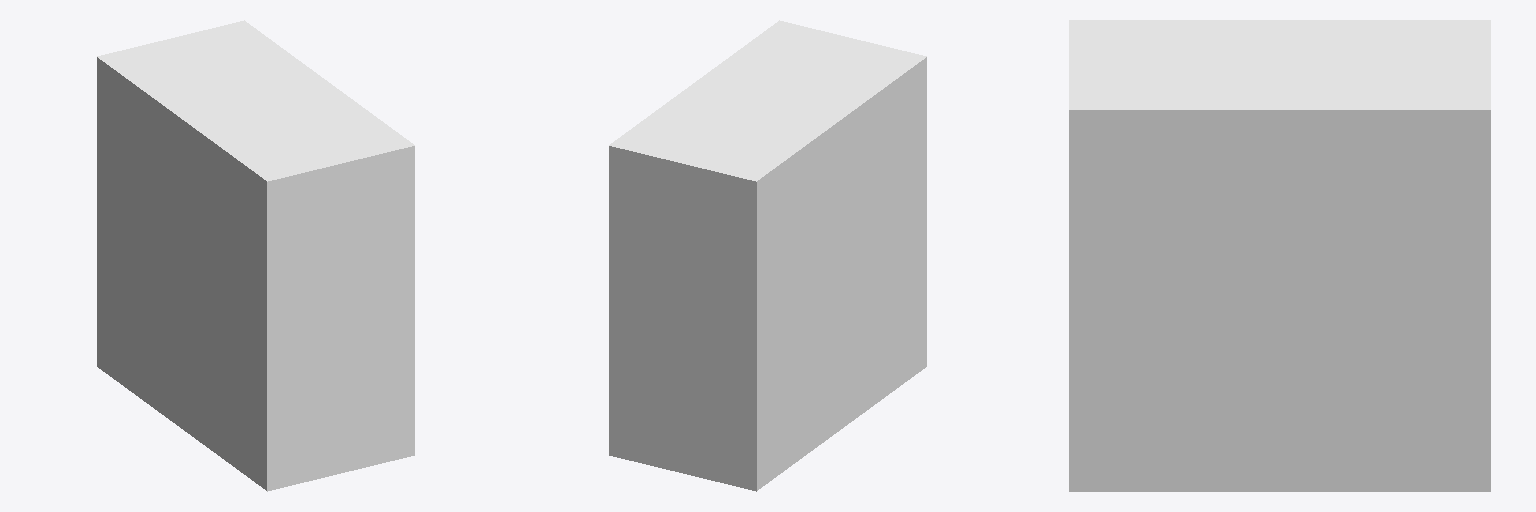
URDF robot description (cube):
<?xml version="1.0" ?>
<robot name="cube">
    <link name="base_link">
        <visual>
            <origin rpy="0 0 0" xyz="0 0 0"/>
            <geometry>
                <box size=".025 .05 .05"/>
            </geometry>
            <material name="framemat0">
                <color rgba="1 1 1 1"/>
            </material>
        </visual>
        <inertial>
            <origin rpy="0 0 0" xyz="0 0 0"/>
            <mass value="0"/>
            <inertia ixx="0" ixy="0" ixz="0" iyy="0" iyz="0" izz="0"/>
        </inertial>
    </link>
</robot>

--- Facts derived from the render (not from the file) ---
Views: 3 orthographic renders of the robot side by side, from view 1: azimuth 30°, elevation 25°; view 2: azimuth 150°, elevation 25°; view 3: azimuth 270°, elevation 25°.
Robot: cube — 1 links, 0 joints (none); root link base_link; default pose: every joint at zero.
Visible links, largest first — view 1: base_link; view 2: base_link; view 3: base_link.
Boxes of the visible links, bbox=[...] form: base_link: bbox=[97, 20, 414, 491]; base_link: bbox=[609, 20, 926, 491]; base_link: bbox=[1069, 20, 1490, 491].
Size in the robot's own frame: 0.025 by 0.05 by 0.05 metres.
Geometry: primitives only (box / cylinder / sphere), no mesh files.